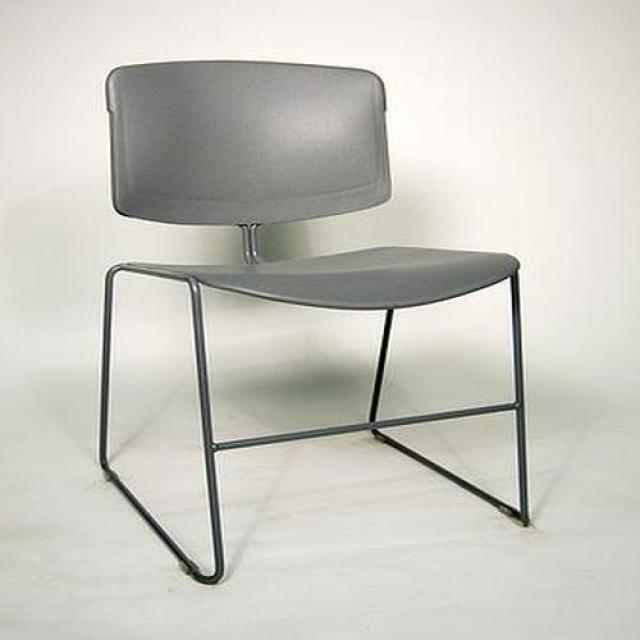chair: (99, 61, 531, 588)
